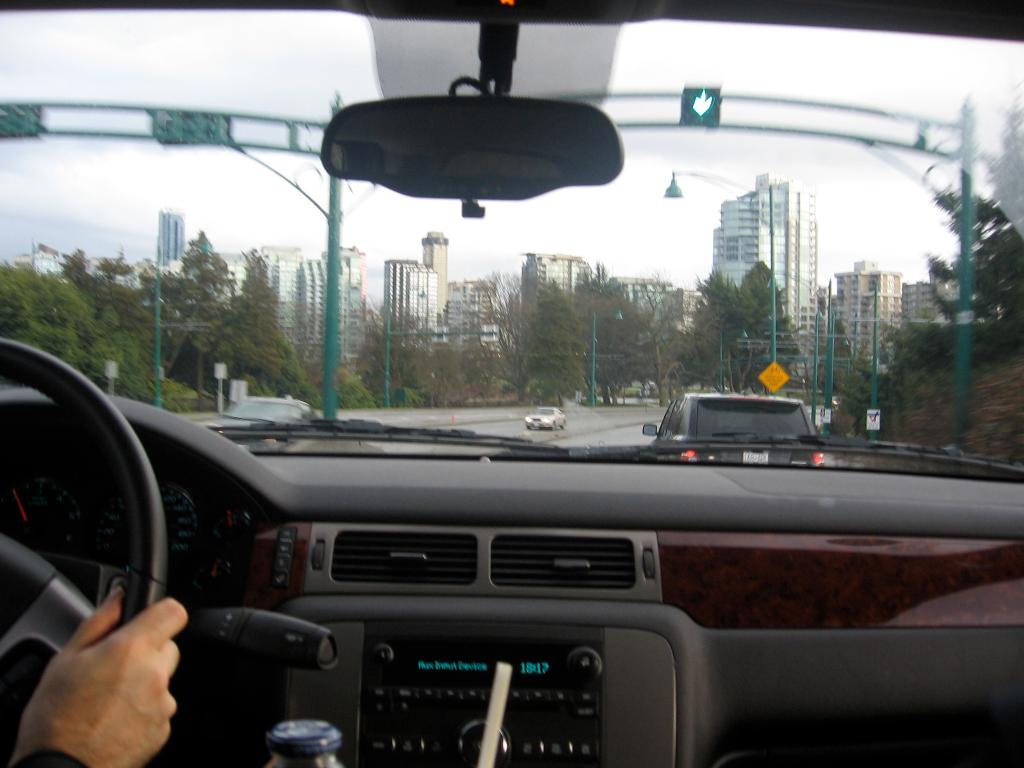mobil: (512, 404, 575, 431)
